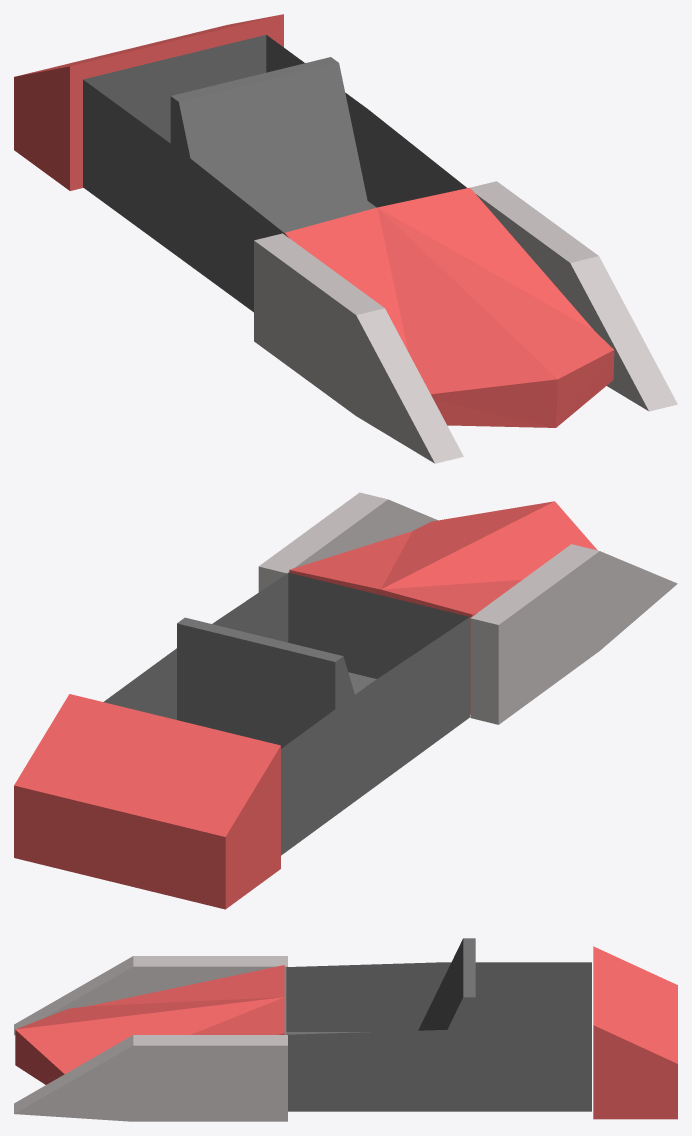
File: cart.obj
3 views of the same model, one above another, from view 1: azimuth 30°, elevation 25°; view 2: azimuth 150°, elevation 25°; view 3: azimuth 270°, elevation 25° (orthographic). The views are drawn at different scales.
Visible parts, largest first — view 1: cart; view 2: cart; view 3: cart.
Boxes of the visible parts, left/top/right/bottom form: cart: left=14, top=14, right=677, bottom=463; cart: left=14, top=492, right=677, bottom=909; cart: left=14, top=938, right=677, bottom=1121.
Size of the model in its own units: 2.23 by 1.29 by 7.
Materials: 1 (1 with a texture image).
